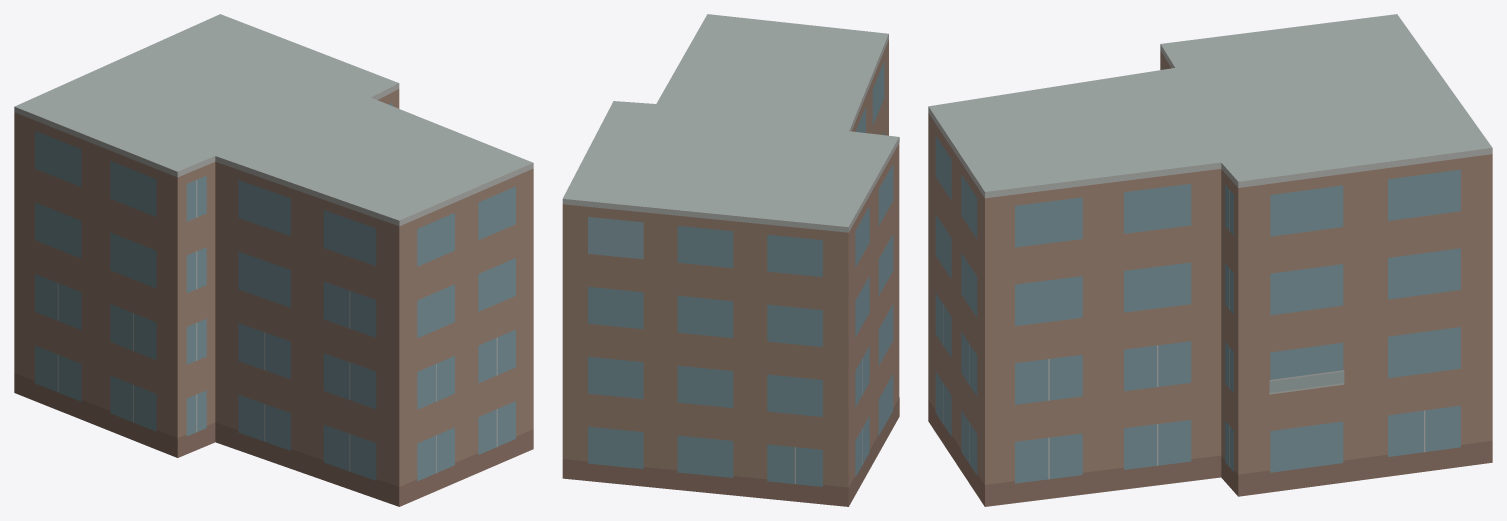
The model's file is survey-upis-32952827.glb.
3 views of the same model, side by side, from view 1: azimuth 30°, elevation 25°; view 2: azimuth 150°, elevation 25°; view 3: azimuth 270°, elevation 25° (orthographic). The views are drawn at different scales.
Parts seen in each view (by area): view 1: survey-upis-32952827.tmp; view 2: survey-upis-32952827.tmp; view 3: survey-upis-32952827.tmp.
Part boxes in pixels (x1,y1,x2,y2): survey-upis-32952827.tmp: [14, 14, 533, 506]; survey-upis-32952827.tmp: [562, 14, 899, 506]; survey-upis-32952827.tmp: [928, 14, 1492, 506].
Bounding box in the file's own units: 15.06 × 12.4 × 20.16.
